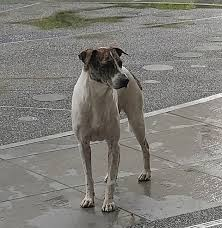dog: (94, 54, 131, 91)
